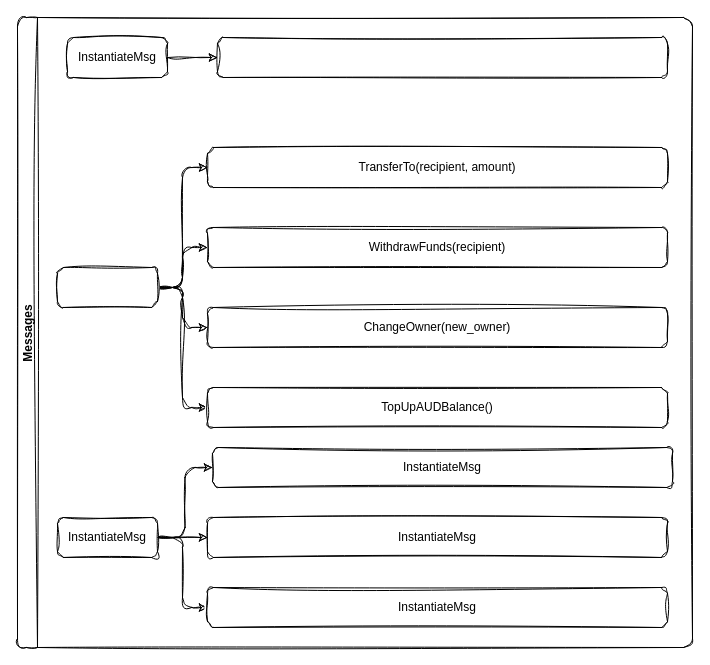
The diagram is 710 pixels wide and 665 high, and some of its shapes have lost their labels. The box of each missing label's shape, as (x1, y1, x2, y2) in pixels:
ExecuteMsg: (56, 266, 158, 308)
Instantiate(owner): (216, 36, 668, 78)
